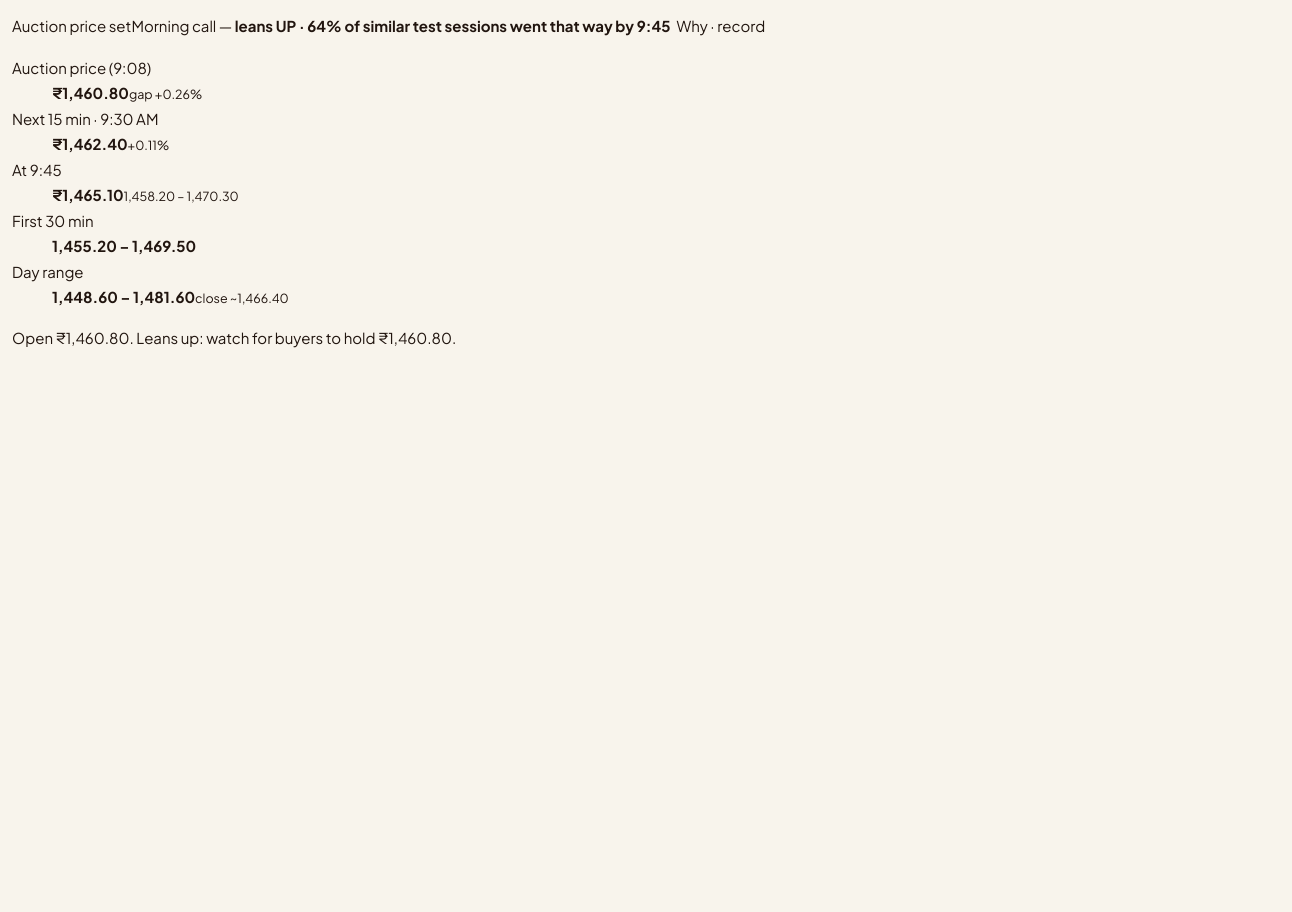
Test: the details give the reasons, the readings and the record — the model's test and the live one
What coordinates should you click on to do the following:
click the button "Why · record"
I would click on:
 (721, 26)
Its box is x1=670 y1=12 x2=771 y2=40.
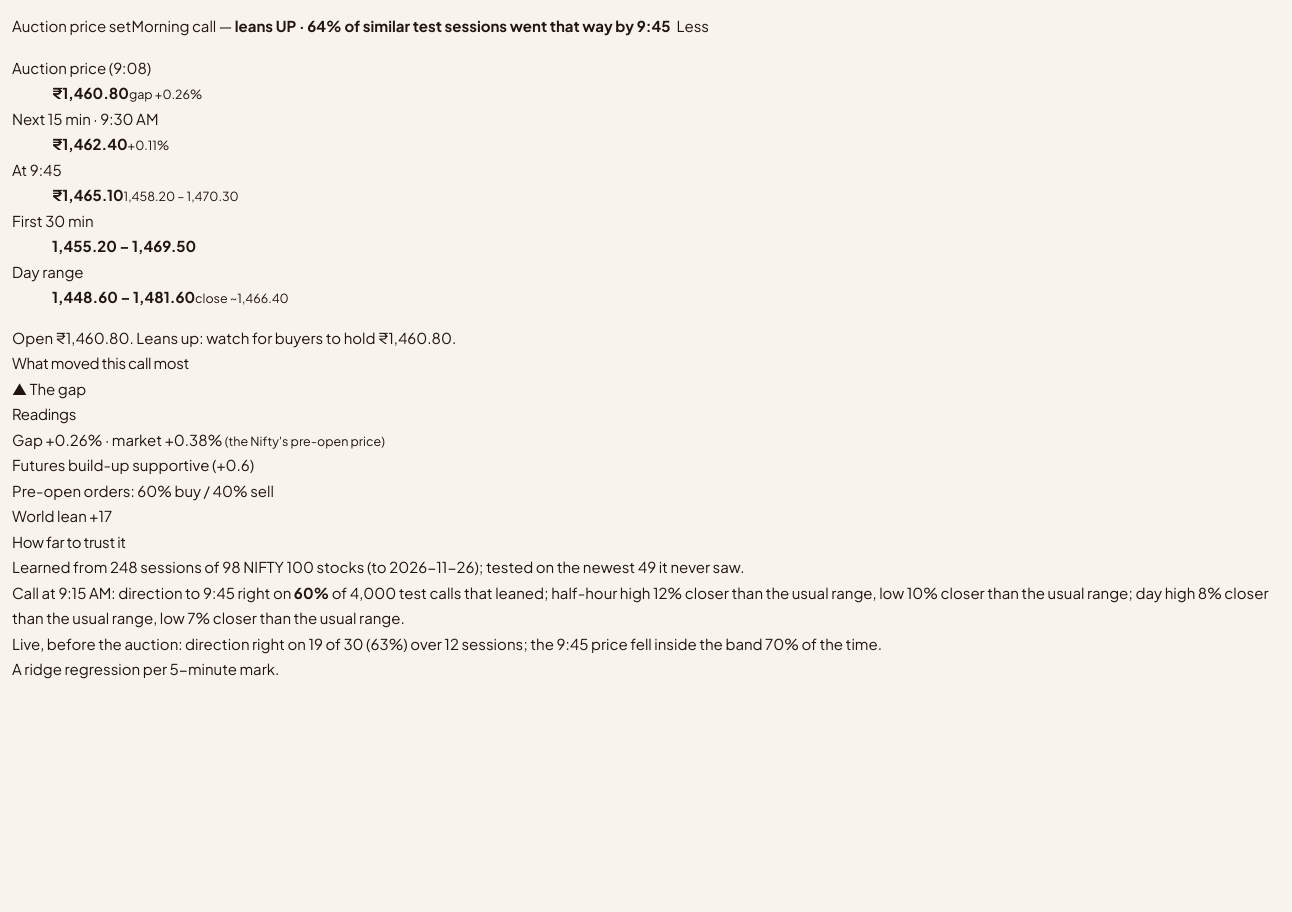
Result: the list item "The gap" is shown at x1=30 y1=378 x2=86 y2=398
Result: the list item "Pre-open orders: 60% buy / 40% sell" is shown at x1=12 y1=480 x2=274 y2=500
Result: the list item "tested on the newest 49 it never saw" is shown at x1=12 y1=557 x2=744 y2=576
